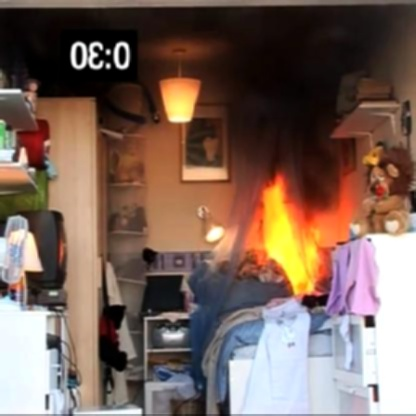fire: (260, 183, 330, 288)
